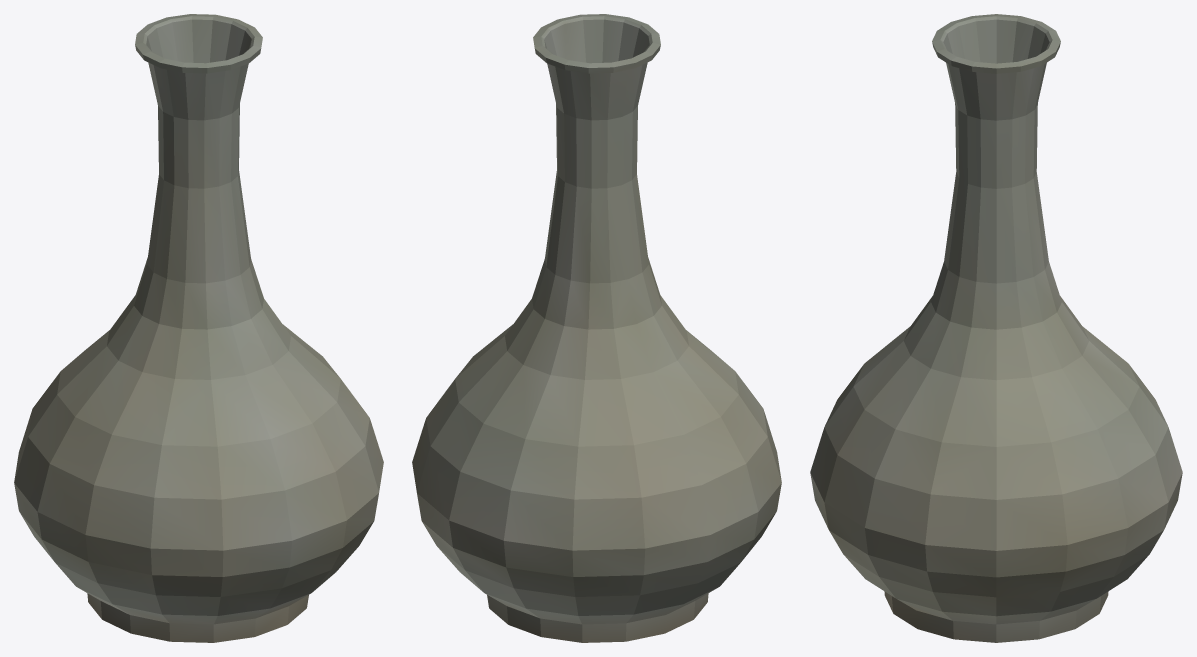
File: bottle_9e996347.glb
The picture shows the model from 3 angles, left to right: view 1: azimuth 30°, elevation 25°; view 2: azimuth 150°, elevation 25°; view 3: azimuth 270°, elevation 25°; orthographic projection.
Visible parts, largest first — view 1: SM_Bottle_M_Bottle_0; view 2: SM_Bottle_M_Bottle_0; view 3: SM_Bottle_M_Bottle_0.
Boxes of the visible parts, x1,y1,x2,y2 form: SM_Bottle_M_Bottle_0: (14,14,383,642); SM_Bottle_M_Bottle_0: (412,14,781,642); SM_Bottle_M_Bottle_0: (810,14,1182,642).
Size of the model in its own units: 0.1571 by 0.2587 by 0.1571.
